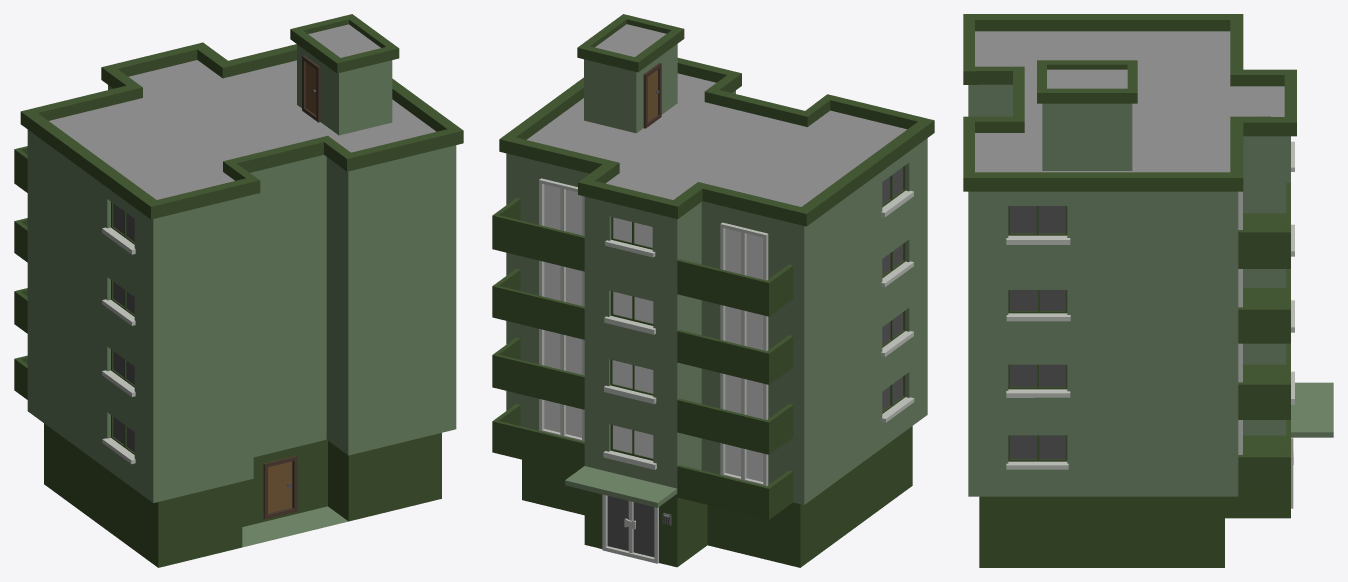
The model's file is Building A Green.fbx.
3 views of the same model, side by side, from view 1: azimuth 30°, elevation 25°; view 2: azimuth 150°, elevation 25°; view 3: azimuth 270°, elevation 25° (orthographic). The views are drawn at different scales.
Parts seen in each view (by area): view 1: Building A Green.001; view 2: Building A Green.001; view 3: Building A Green.001.
Boxes of the visible parts, box(x1,y1,x2,y2) form: Building A Green.001: box(14, 14, 463, 567); Building A Green.001: box(492, 14, 934, 567); Building A Green.001: box(963, 14, 1333, 567).
Bounding box in the file's own units: 1534 × 1466 × 2039.
